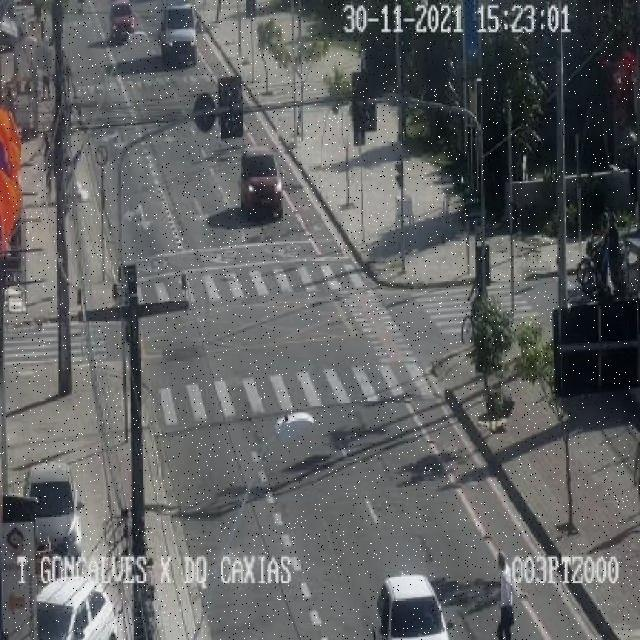Car: (22, 460, 84, 558), (35, 576, 120, 638), (379, 574, 449, 638), (239, 144, 284, 219), (110, 1, 136, 40)
Cycle: (580, 249, 638, 295), (576, 237, 632, 282)
Van: (158, 0, 200, 66)
